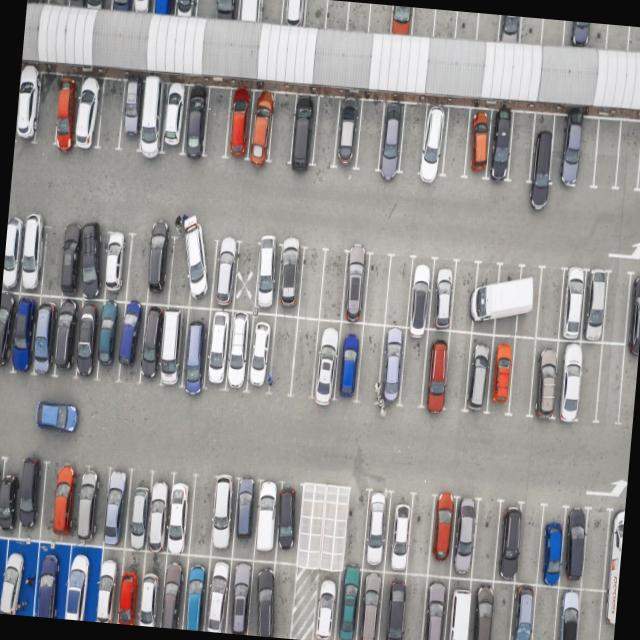car: (552, 338, 595, 421), (58, 545, 96, 621), (71, 462, 105, 544), (529, 339, 563, 420), (46, 459, 80, 540), (180, 306, 213, 389), (6, 540, 42, 616), (244, 312, 278, 392), (358, 488, 391, 570), (210, 476, 242, 560), (31, 544, 67, 618), (208, 234, 242, 312), (220, 310, 253, 390), (10, 454, 43, 534), (416, 105, 451, 180), (116, 300, 148, 382), (425, 494, 457, 576), (202, 308, 234, 390), (155, 304, 187, 386), (184, 231, 218, 308), (0, 536, 33, 615), (374, 324, 406, 405), (384, 491, 416, 572), (464, 330, 496, 410), (332, 320, 364, 400), (490, 261, 524, 336), (311, 316, 342, 398), (199, 554, 232, 631), (421, 330, 452, 411), (156, 81, 189, 157), (76, 226, 109, 302), (484, 336, 516, 414), (156, 550, 188, 628), (450, 499, 481, 579), (101, 468, 132, 548), (492, 502, 523, 582), (557, 266, 590, 341), (471, 260, 504, 334), (254, 238, 286, 314), (136, 80, 168, 156), (164, 477, 196, 553), (180, 553, 212, 629), (554, 114, 586, 190), (230, 478, 260, 558), (134, 552, 166, 627), (122, 470, 152, 550), (338, 252, 371, 324), (462, 108, 495, 180), (404, 258, 437, 330), (222, 88, 254, 162), (273, 242, 305, 316), (180, 86, 212, 160), (72, 76, 104, 150), (510, 264, 542, 338), (15, 218, 46, 294), (94, 546, 125, 622), (246, 558, 277, 634), (95, 297, 124, 378), (252, 480, 282, 558), (226, 556, 256, 634), (376, 102, 408, 175), (287, 94, 319, 167), (245, 90, 277, 163), (52, 298, 81, 378), (8, 292, 37, 372), (103, 230, 135, 302), (331, 98, 363, 170), (138, 304, 167, 383), (114, 548, 144, 624), (538, 510, 568, 586), (74, 299, 102, 380), (29, 296, 58, 374), (528, 114, 558, 189), (426, 260, 458, 330), (312, 570, 344, 640), (578, 268, 608, 342), (271, 488, 300, 564), (353, 567, 383, 640), (144, 474, 172, 552), (558, 512, 586, 590), (443, 576, 477, 640), (487, 108, 516, 183), (52, 74, 80, 150), (420, 574, 452, 640), (377, 570, 407, 640), (145, 232, 174, 304), (118, 80, 147, 152), (15, 68, 42, 144), (332, 569, 360, 640), (507, 581, 538, 640), (602, 508, 624, 590), (2, 216, 26, 290), (465, 581, 495, 640), (60, 224, 84, 296), (0, 456, 22, 533), (549, 584, 579, 640), (596, 586, 618, 640), (0, 291, 15, 370), (565, 21, 606, 48), (626, 272, 640, 347), (387, 5, 414, 36), (281, 0, 309, 26), (498, 15, 524, 42), (235, 0, 261, 22), (213, 0, 239, 20), (173, 0, 199, 17), (151, 0, 177, 16), (130, 0, 154, 14), (110, 0, 136, 12), (82, 0, 109, 9), (65, 0, 85, 7)
free: (265, 313, 299, 393), (594, 342, 628, 421), (508, 335, 542, 414), (440, 330, 472, 411), (186, 477, 218, 558), (398, 328, 430, 408), (354, 324, 386, 404), (264, 560, 297, 637), (286, 317, 318, 396), (532, 268, 566, 342), (438, 106, 472, 180), (404, 494, 434, 577), (471, 502, 502, 582), (228, 235, 260, 312), (339, 492, 369, 574), (291, 566, 324, 640), (600, 270, 632, 346), (580, 511, 610, 592), (504, 110, 536, 185), (515, 506, 545, 586), (268, 89, 300, 164), (575, 340, 604, 422), (311, 96, 344, 168), (354, 98, 386, 172), (202, 86, 234, 160), (316, 251, 348, 323), (293, 248, 325, 320), (448, 262, 480, 334), (96, 78, 128, 150), (592, 116, 623, 190), (397, 104, 428, 176), (34, 74, 64, 148), (395, 571, 427, 640), (167, 230, 196, 305), (360, 256, 391, 326), (381, 258, 412, 328), (574, 116, 601, 192), (126, 232, 155, 302), (528, 582, 560, 640), (40, 223, 66, 294), (615, 120, 640, 193), (298, 491, 322, 567), (38, 461, 61, 538), (487, 582, 517, 640), (617, 346, 639, 424), (575, 586, 605, 640), (367, 3, 394, 35), (409, 7, 436, 38), (323, 0, 350, 31), (347, 1, 372, 34), (432, 10, 458, 40), (476, 13, 502, 42), (455, 11, 480, 41), (540, 18, 565, 47), (301, 0, 326, 28), (518, 16, 542, 44), (606, 24, 630, 50), (259, 0, 284, 23), (194, 0, 219, 19), (625, 26, 640, 52), (47, 0, 71, 7)
